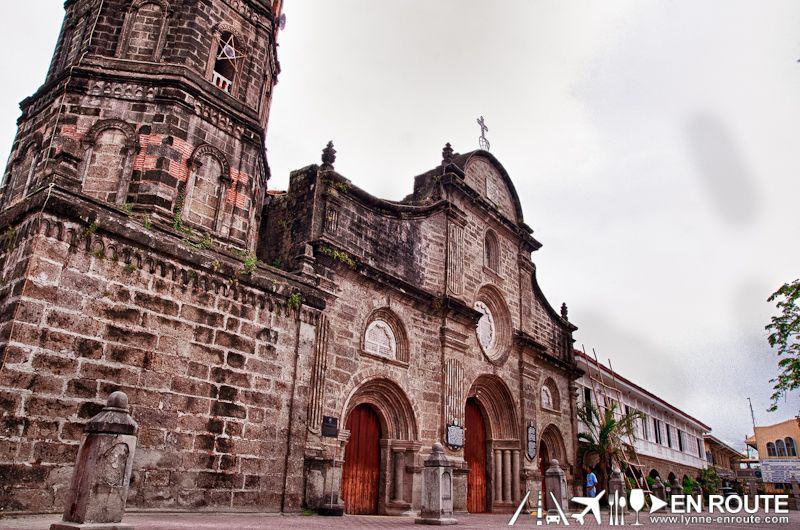barasoain_church_malolos_bulacan: (1, 1, 578, 512)
